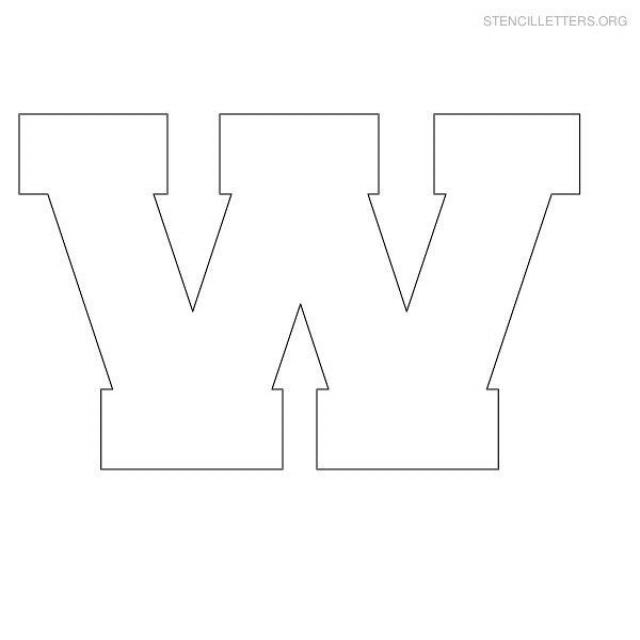W: (7, 66, 604, 521)
